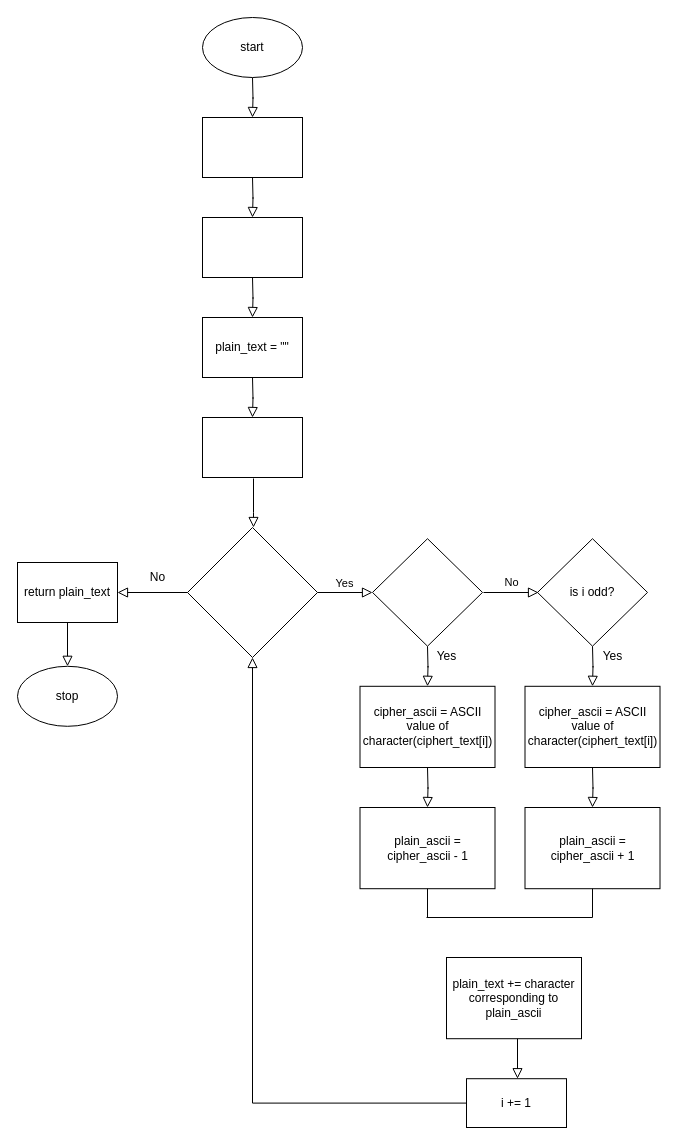
Some shapes in this 678 by 1145 pixel diagram are drawn without their labels. The shapes that lost their labels are listed below. From the top down, each one's centre as x and y in pixels, then its label:
point (252, 147): define decrypt() function
point (252, 247): take ciphertext as input (cipher_text = secret_Word)
point (252, 447): i = 0
point (252, 592): i < len(cipher_text)?
point (427, 592): is i even?
